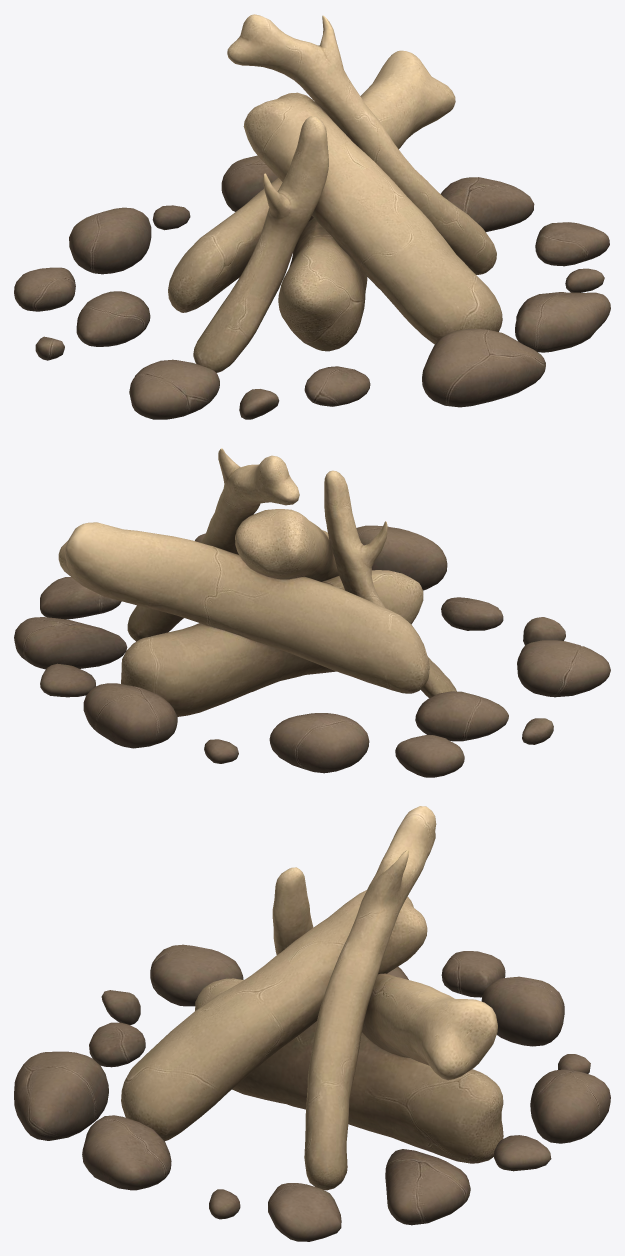
Rendered from tb_bonefire.glb.
3 renders of one model, top to bottom at view 1: azimuth 30°, elevation 25°; view 2: azimuth 150°, elevation 25°; view 3: azimuth 270°, elevation 25°, orthographic. The views are drawn at different scales.
Parts seen in each view (by area): view 1: tb_bonefire; view 2: tb_bonefire; view 3: tb_bonefire.
Boxes of the visible parts, x1,y1,x2,y2 form: tb_bonefire: (14, 14, 610, 419); tb_bonefire: (14, 448, 610, 777); tb_bonefire: (14, 806, 610, 1241).
Size of the model in its own units: 2.3 by 1.12 by 2.02.
Materials: 1 (1 with a texture image).
